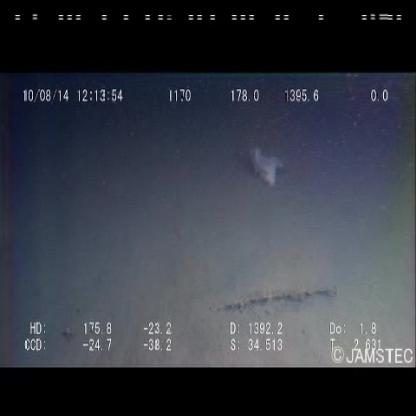Rác: (244, 141, 284, 191)
